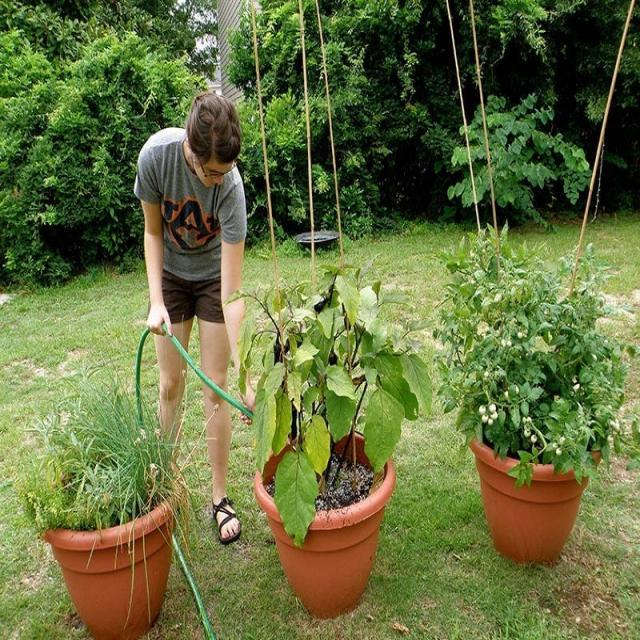brinjal: (238, 268, 433, 547)
plant: (0, 1, 216, 284), (319, 0, 475, 234), (16, 370, 189, 535), (476, 0, 630, 159), (258, 0, 308, 233), (602, 0, 640, 209), (451, 0, 479, 122), (500, 175, 571, 219), (242, 105, 266, 234), (229, 12, 255, 99)
tomato: (435, 228, 628, 482)
